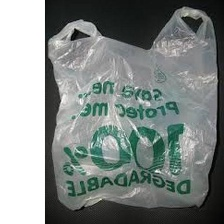plastic_bag: (44, 1, 224, 214)
